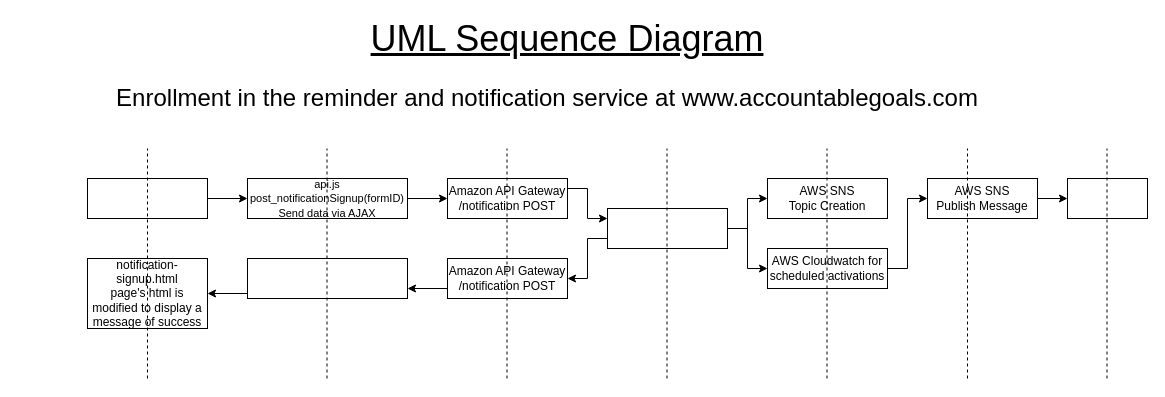
Some shapes in this 1165 by 397 pixel diagram are drawn without their labels. The shapes that lost their labels are listed below. From the top down, each one's box as (x1, y1, x2, y2) in pixels, then its label:
(86, 178, 208, 218): notification-signup.html
(1066, 178, 1148, 218): Mobile Phone Receives Text
(606, 208, 728, 248): AWS Lambda
(246, 258, 408, 298): api.js post_notificationSignup(formID) Receive success via AJAX
